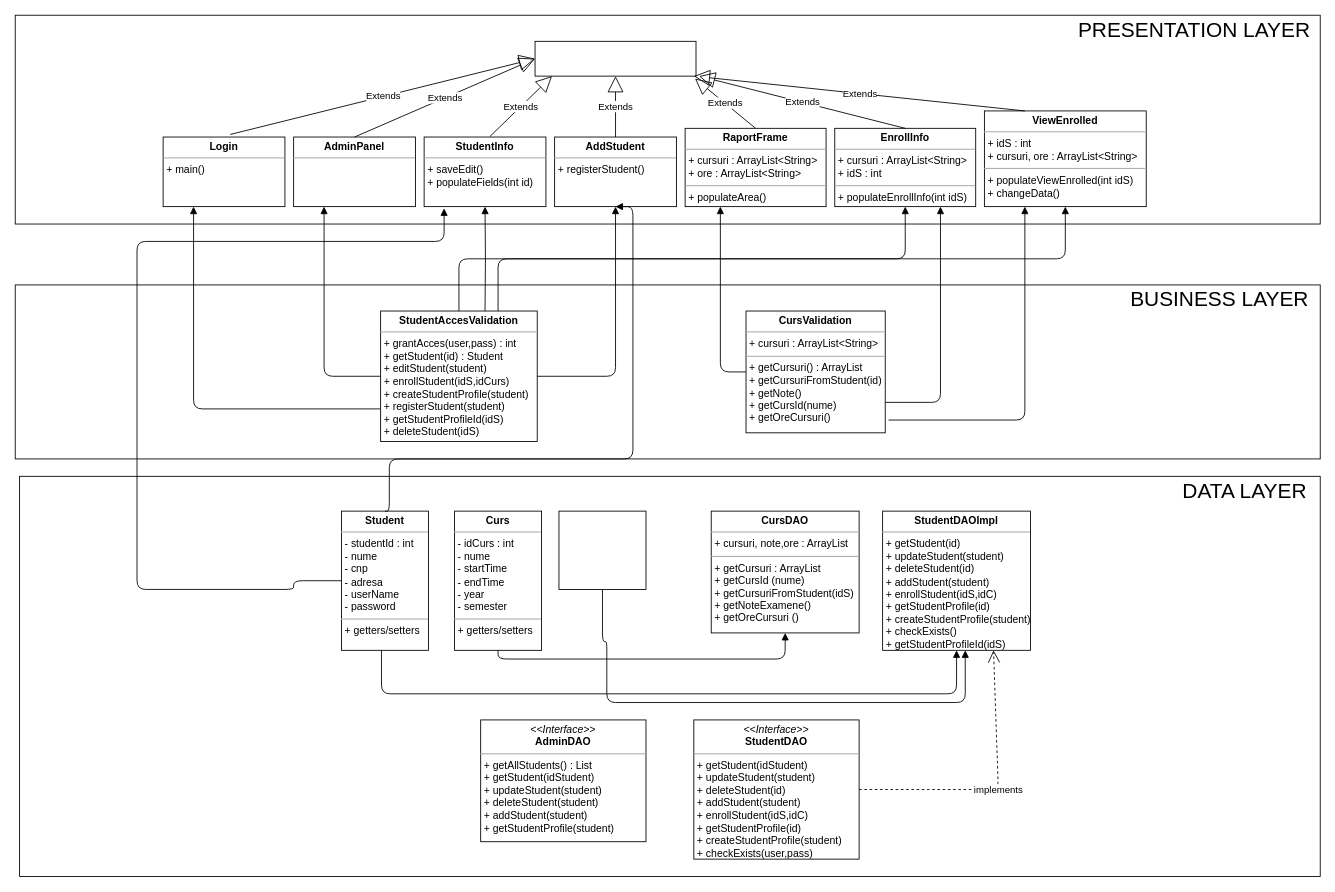
Image size: 1335x892. Some labels were removed from this diagram. The centre of each missing label's shape, as x and y in pixels:
<<Interface>> JFrame: point 615,58
StudentProfile - idStudentProfile - grupa + getters/setters: point 602,549
